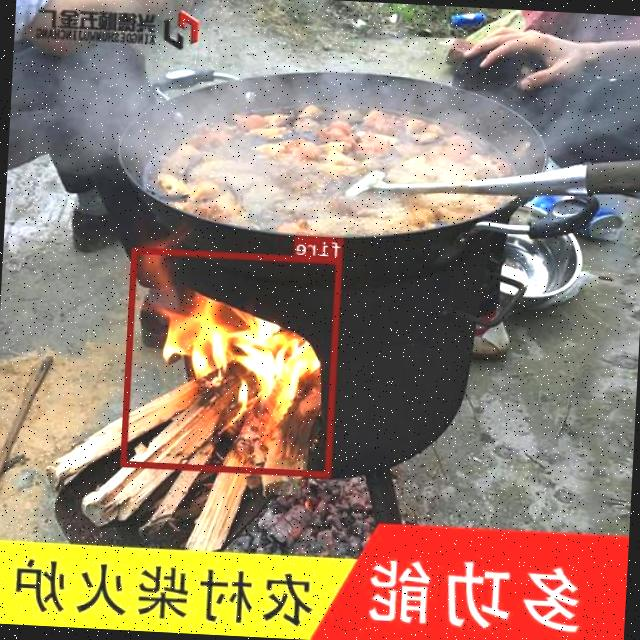fire: (122, 246, 344, 476)
